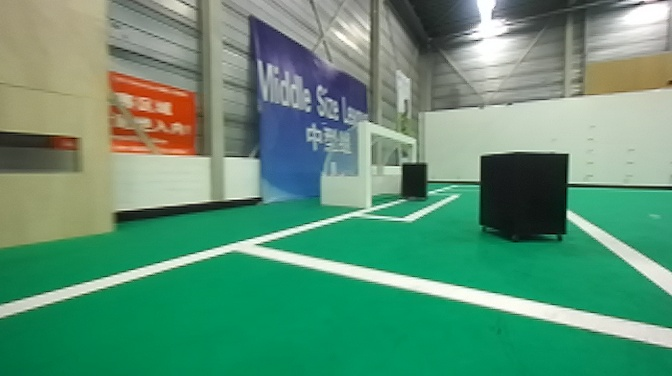goalpost: (356, 123, 372, 209), (407, 139, 420, 166)
